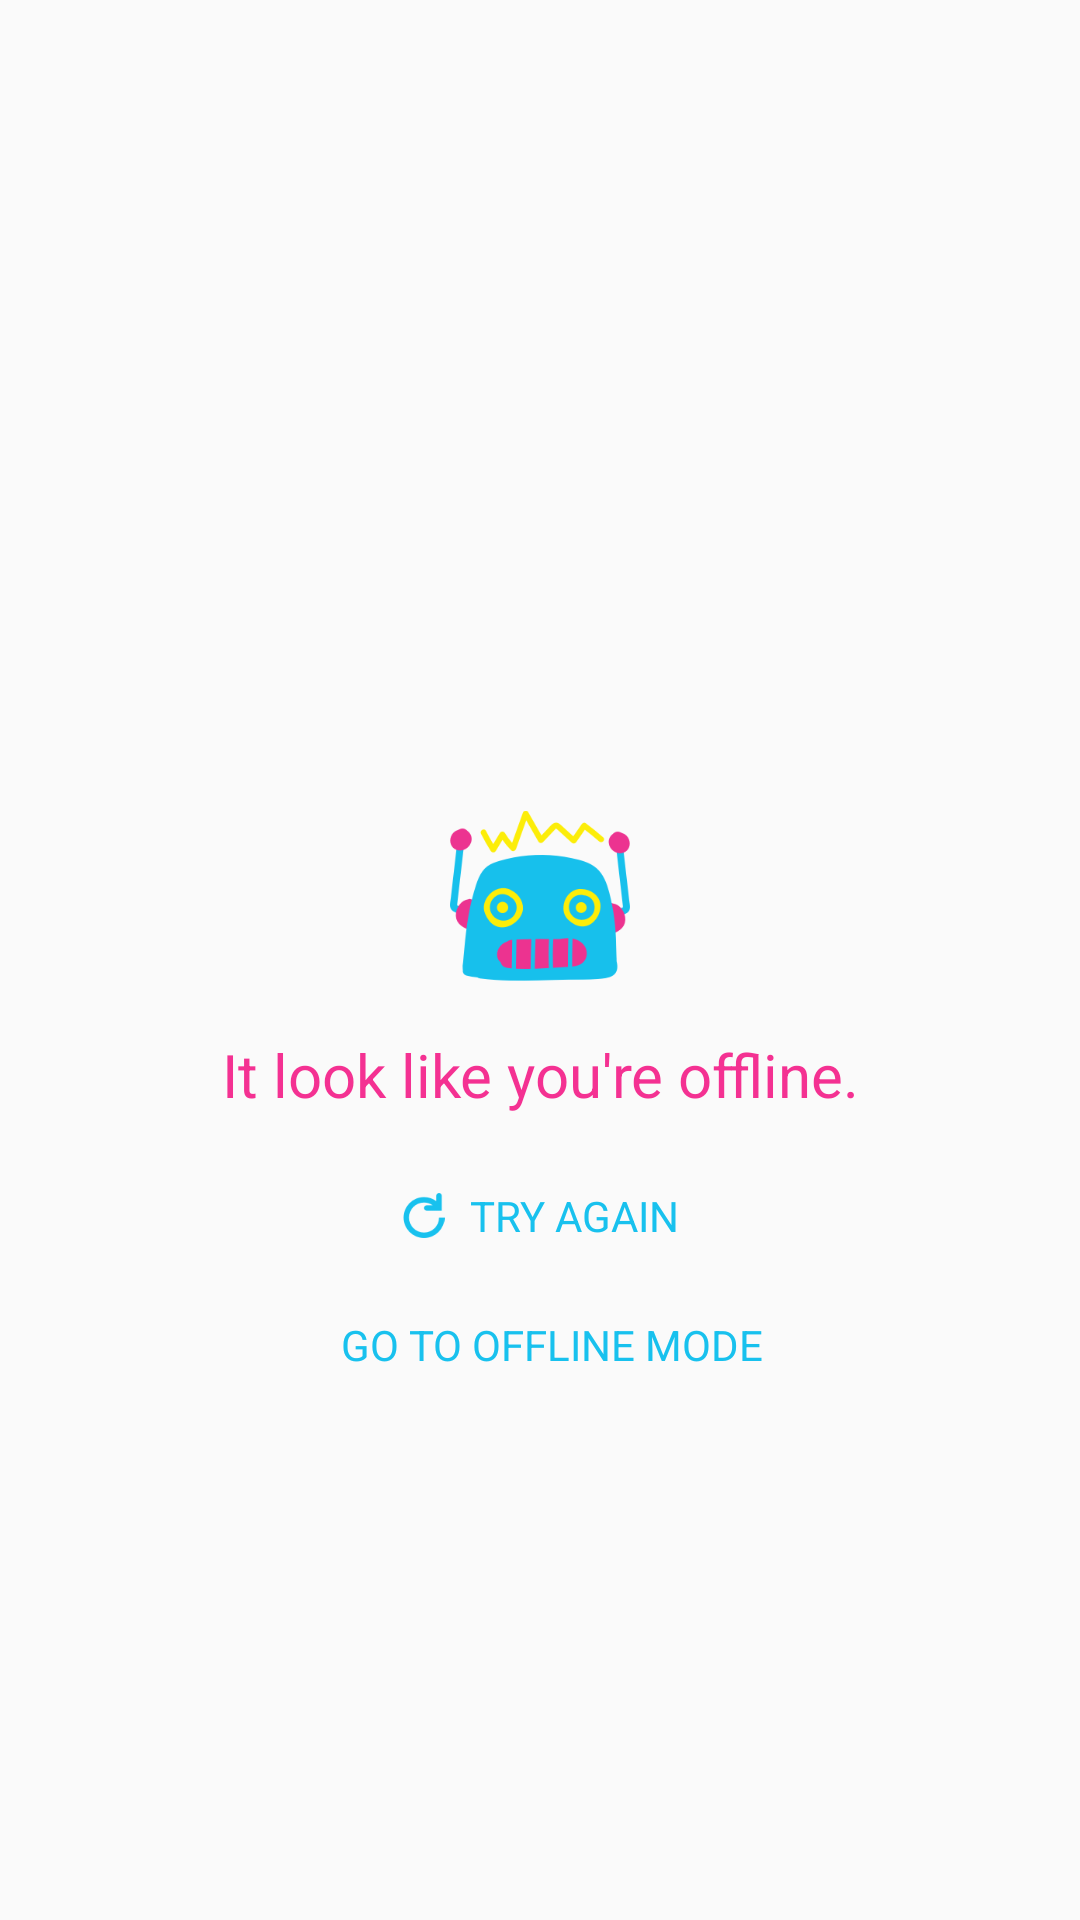

Icons on this 1080w x 1920h Android screen, each with the point to tap as (x,y):
offline robot: (540,896)
refresh: (424,1215)
